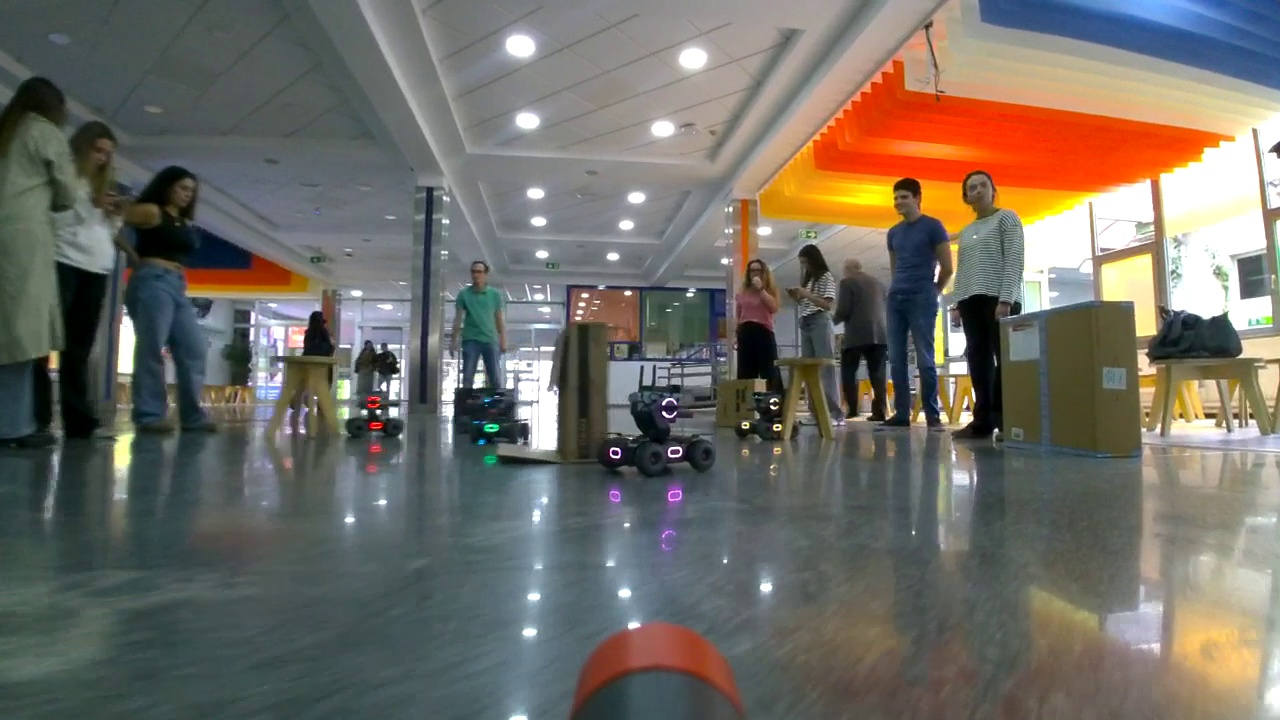robot: (596, 384, 713, 472)
